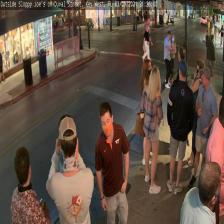person: (46, 114, 94, 224), (94, 102, 130, 224), (167, 59, 194, 194), (190, 66, 217, 184), (10, 146, 50, 224), (180, 162, 221, 223), (144, 66, 163, 193), (169, 45, 187, 154), (188, 58, 206, 166), (139, 58, 153, 165)
